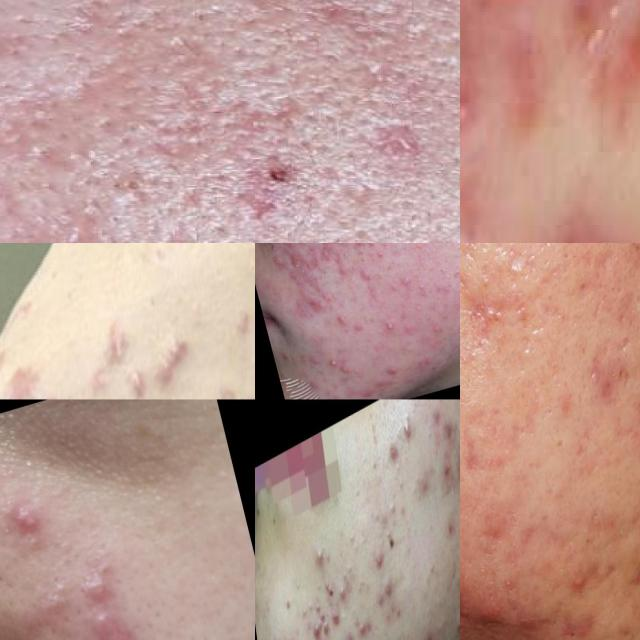acne_scars: (465, 290, 524, 356), (580, 355, 640, 417)
comedone: (566, 508, 620, 558), (336, 560, 358, 612), (22, 530, 49, 559), (422, 553, 444, 585), (52, 571, 76, 599), (346, 520, 362, 562), (299, 592, 322, 621), (367, 447, 384, 485), (414, 275, 434, 300), (408, 466, 423, 499), (385, 493, 399, 519), (373, 245, 391, 265), (451, 607, 460, 640), (0, 523, 14, 543), (394, 456, 403, 480), (273, 630, 287, 640)
keloid: (82, 290, 197, 400), (0, 349, 41, 399)
papule: (78, 562, 124, 608), (21, 598, 65, 640), (9, 501, 44, 536), (87, 609, 123, 640), (438, 445, 458, 484), (380, 574, 402, 604), (438, 410, 456, 446), (369, 544, 389, 573), (334, 306, 352, 332), (355, 611, 370, 639), (289, 249, 305, 273), (357, 266, 375, 286), (309, 621, 326, 640), (332, 607, 341, 638), (339, 625, 357, 640), (419, 624, 435, 640), (282, 626, 298, 640)
pustule: (565, 569, 598, 602), (398, 406, 418, 452), (308, 538, 329, 575), (318, 352, 341, 376), (379, 315, 401, 340), (269, 252, 287, 271)
sebo-crystan-conglo: (53, 538, 159, 640), (460, 573, 486, 611)
